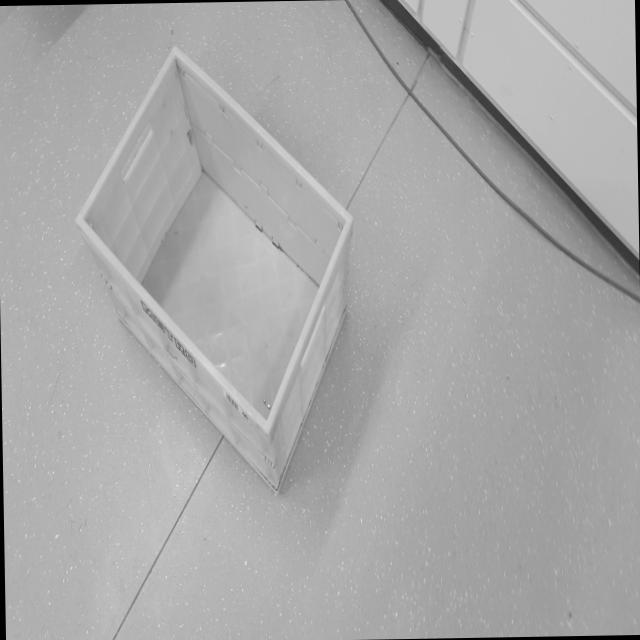box: (61, 36, 366, 520)
